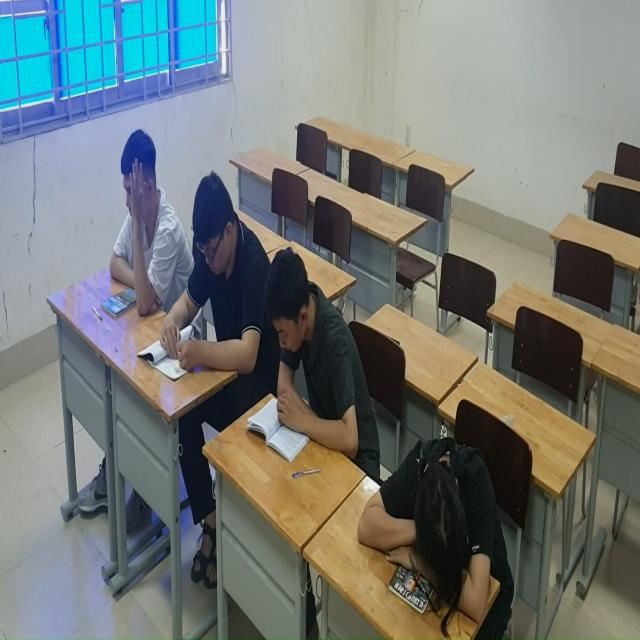raise_hand: (107, 128, 168, 317)
read: (246, 246, 360, 464), (157, 169, 260, 394)
sleep: (357, 439, 519, 627)
